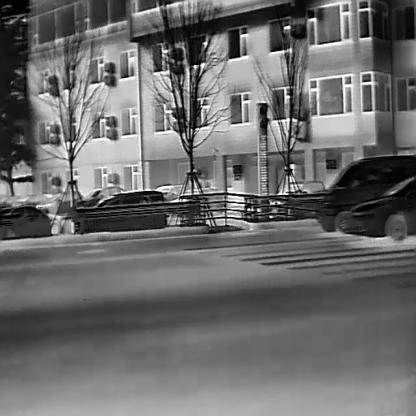car: (314, 154, 416, 234), (334, 177, 416, 239), (69, 189, 167, 234), (0, 200, 60, 238), (35, 189, 83, 213), (76, 186, 124, 206), (153, 184, 184, 202), (10, 194, 48, 206)
